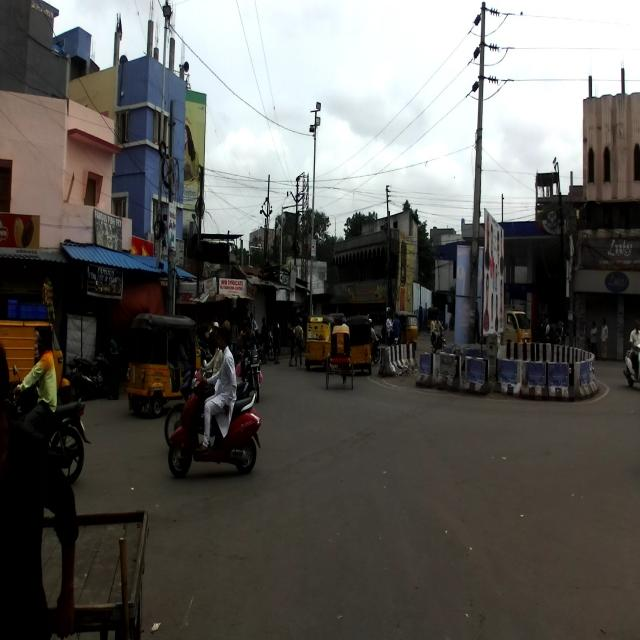autorickshaw: (126, 312, 199, 420), (0, 318, 71, 408)
motorcycle_Hero: (164, 366, 250, 452)
motorcycle_Honda: (5, 362, 91, 488)
scooter: (167, 360, 262, 479)
